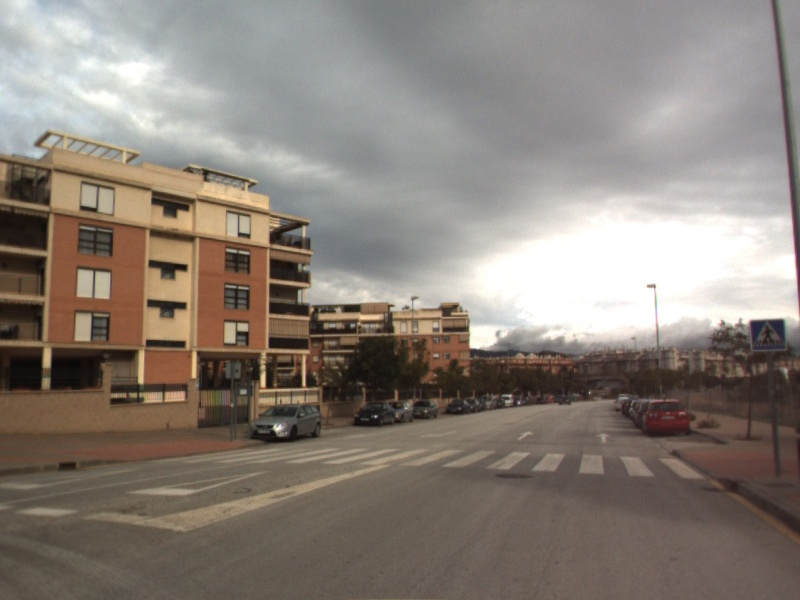STRAIGHT: (515, 429, 536, 442), (594, 430, 613, 444)
